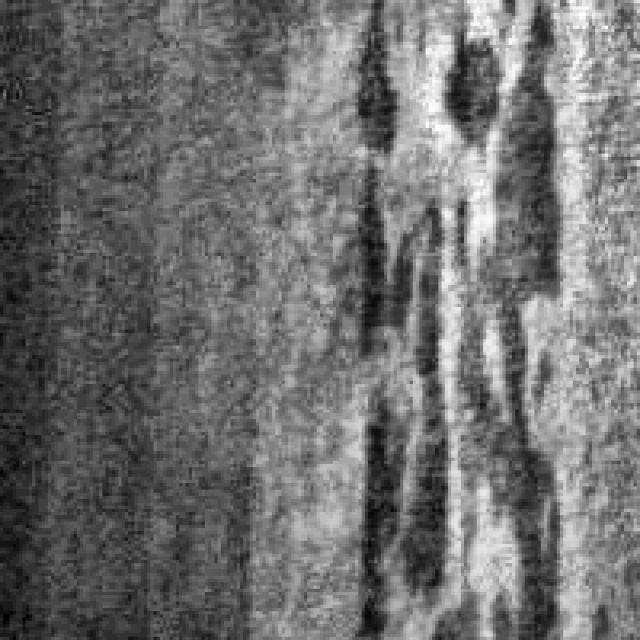Patches: (346, 7, 572, 630)
